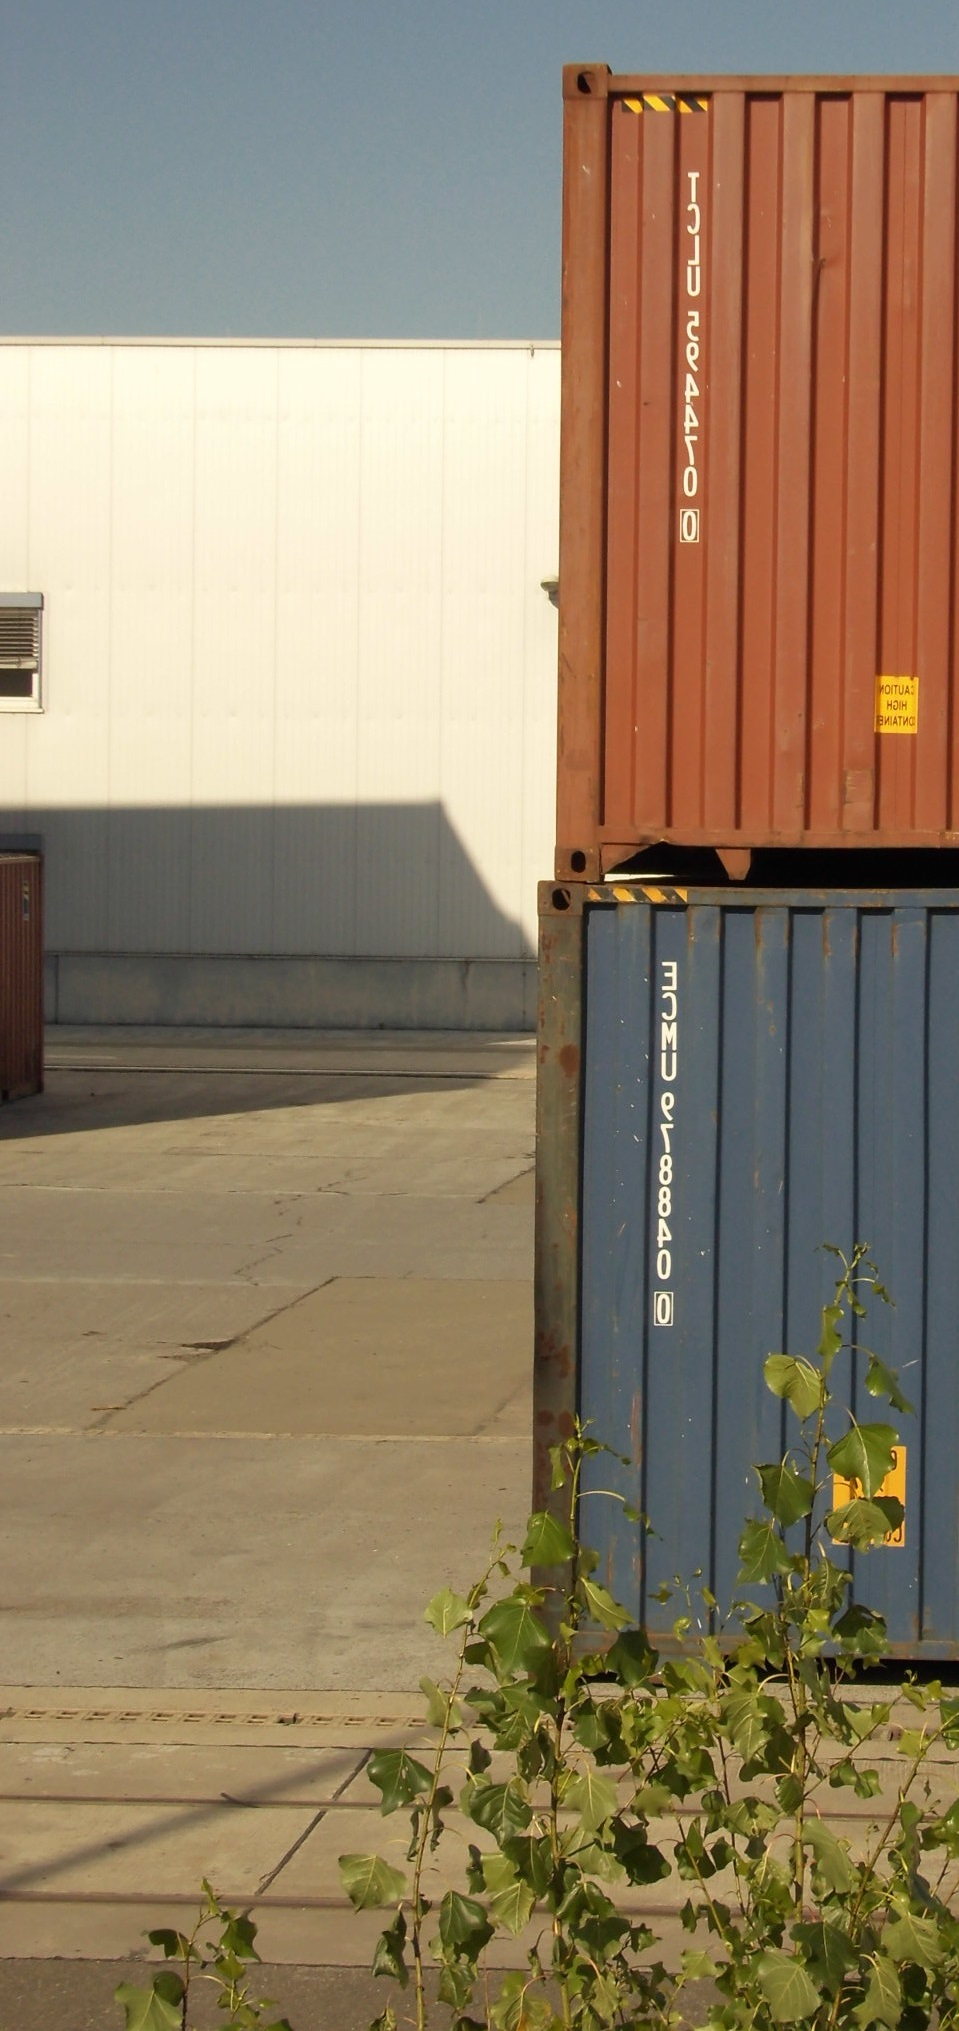container_no_door: (529, 882, 959, 1696), (553, 60, 959, 877)
